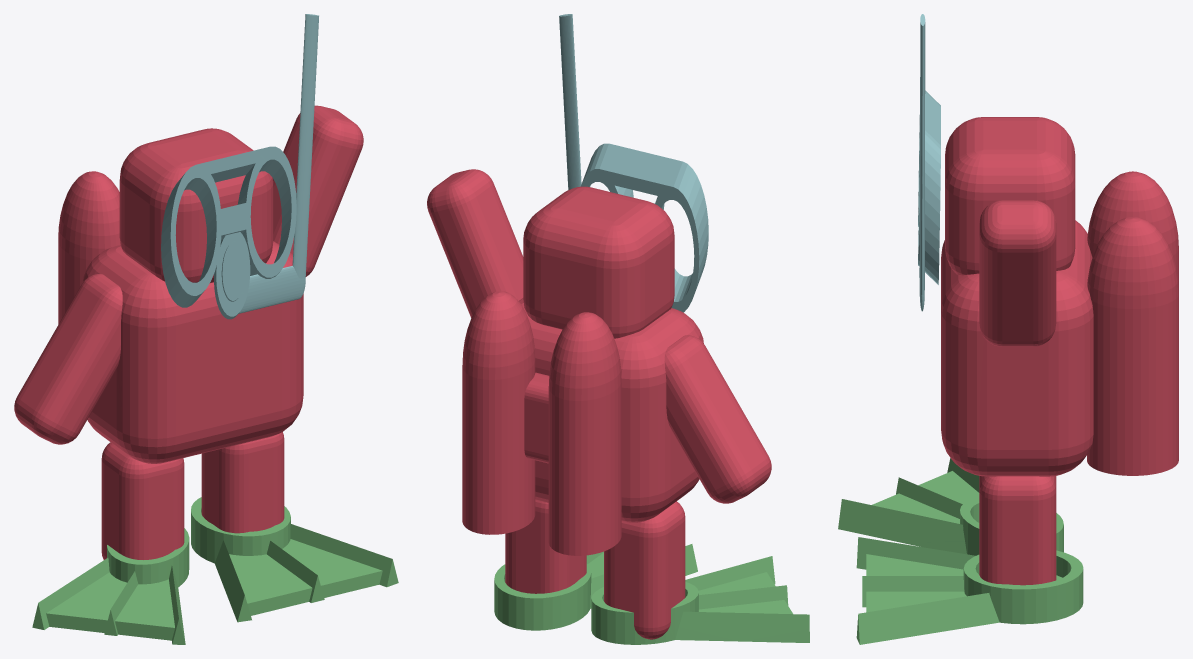
File: asset.glb
3 views of the same model, side by side, from view 1: azimuth 30°, elevation 25°; view 2: azimuth 150°, elevation 25°; view 3: azimuth 270°, elevation 25° (orthographic). The views are drawn at different scales.
Visible parts, largest first — view 1: Mesh_Mesh_head_geo.001_lambert2SG.001; view 2: Mesh_Mesh_head_geo.001_lambert2SG.001; view 3: Mesh_Mesh_head_geo.001_lambert2SG.001.
Boxes of the visible parts, x1,y1,x2,y2 form: Mesh_Mesh_head_geo.001_lambert2SG.001: [14, 14, 398, 644]; Mesh_Mesh_head_geo.001_lambert2SG.001: [427, 14, 809, 644]; Mesh_Mesh_head_geo.001_lambert2SG.001: [838, 14, 1178, 644].
Size of the model in its own units: 55.96 by 86 by 44.43.
